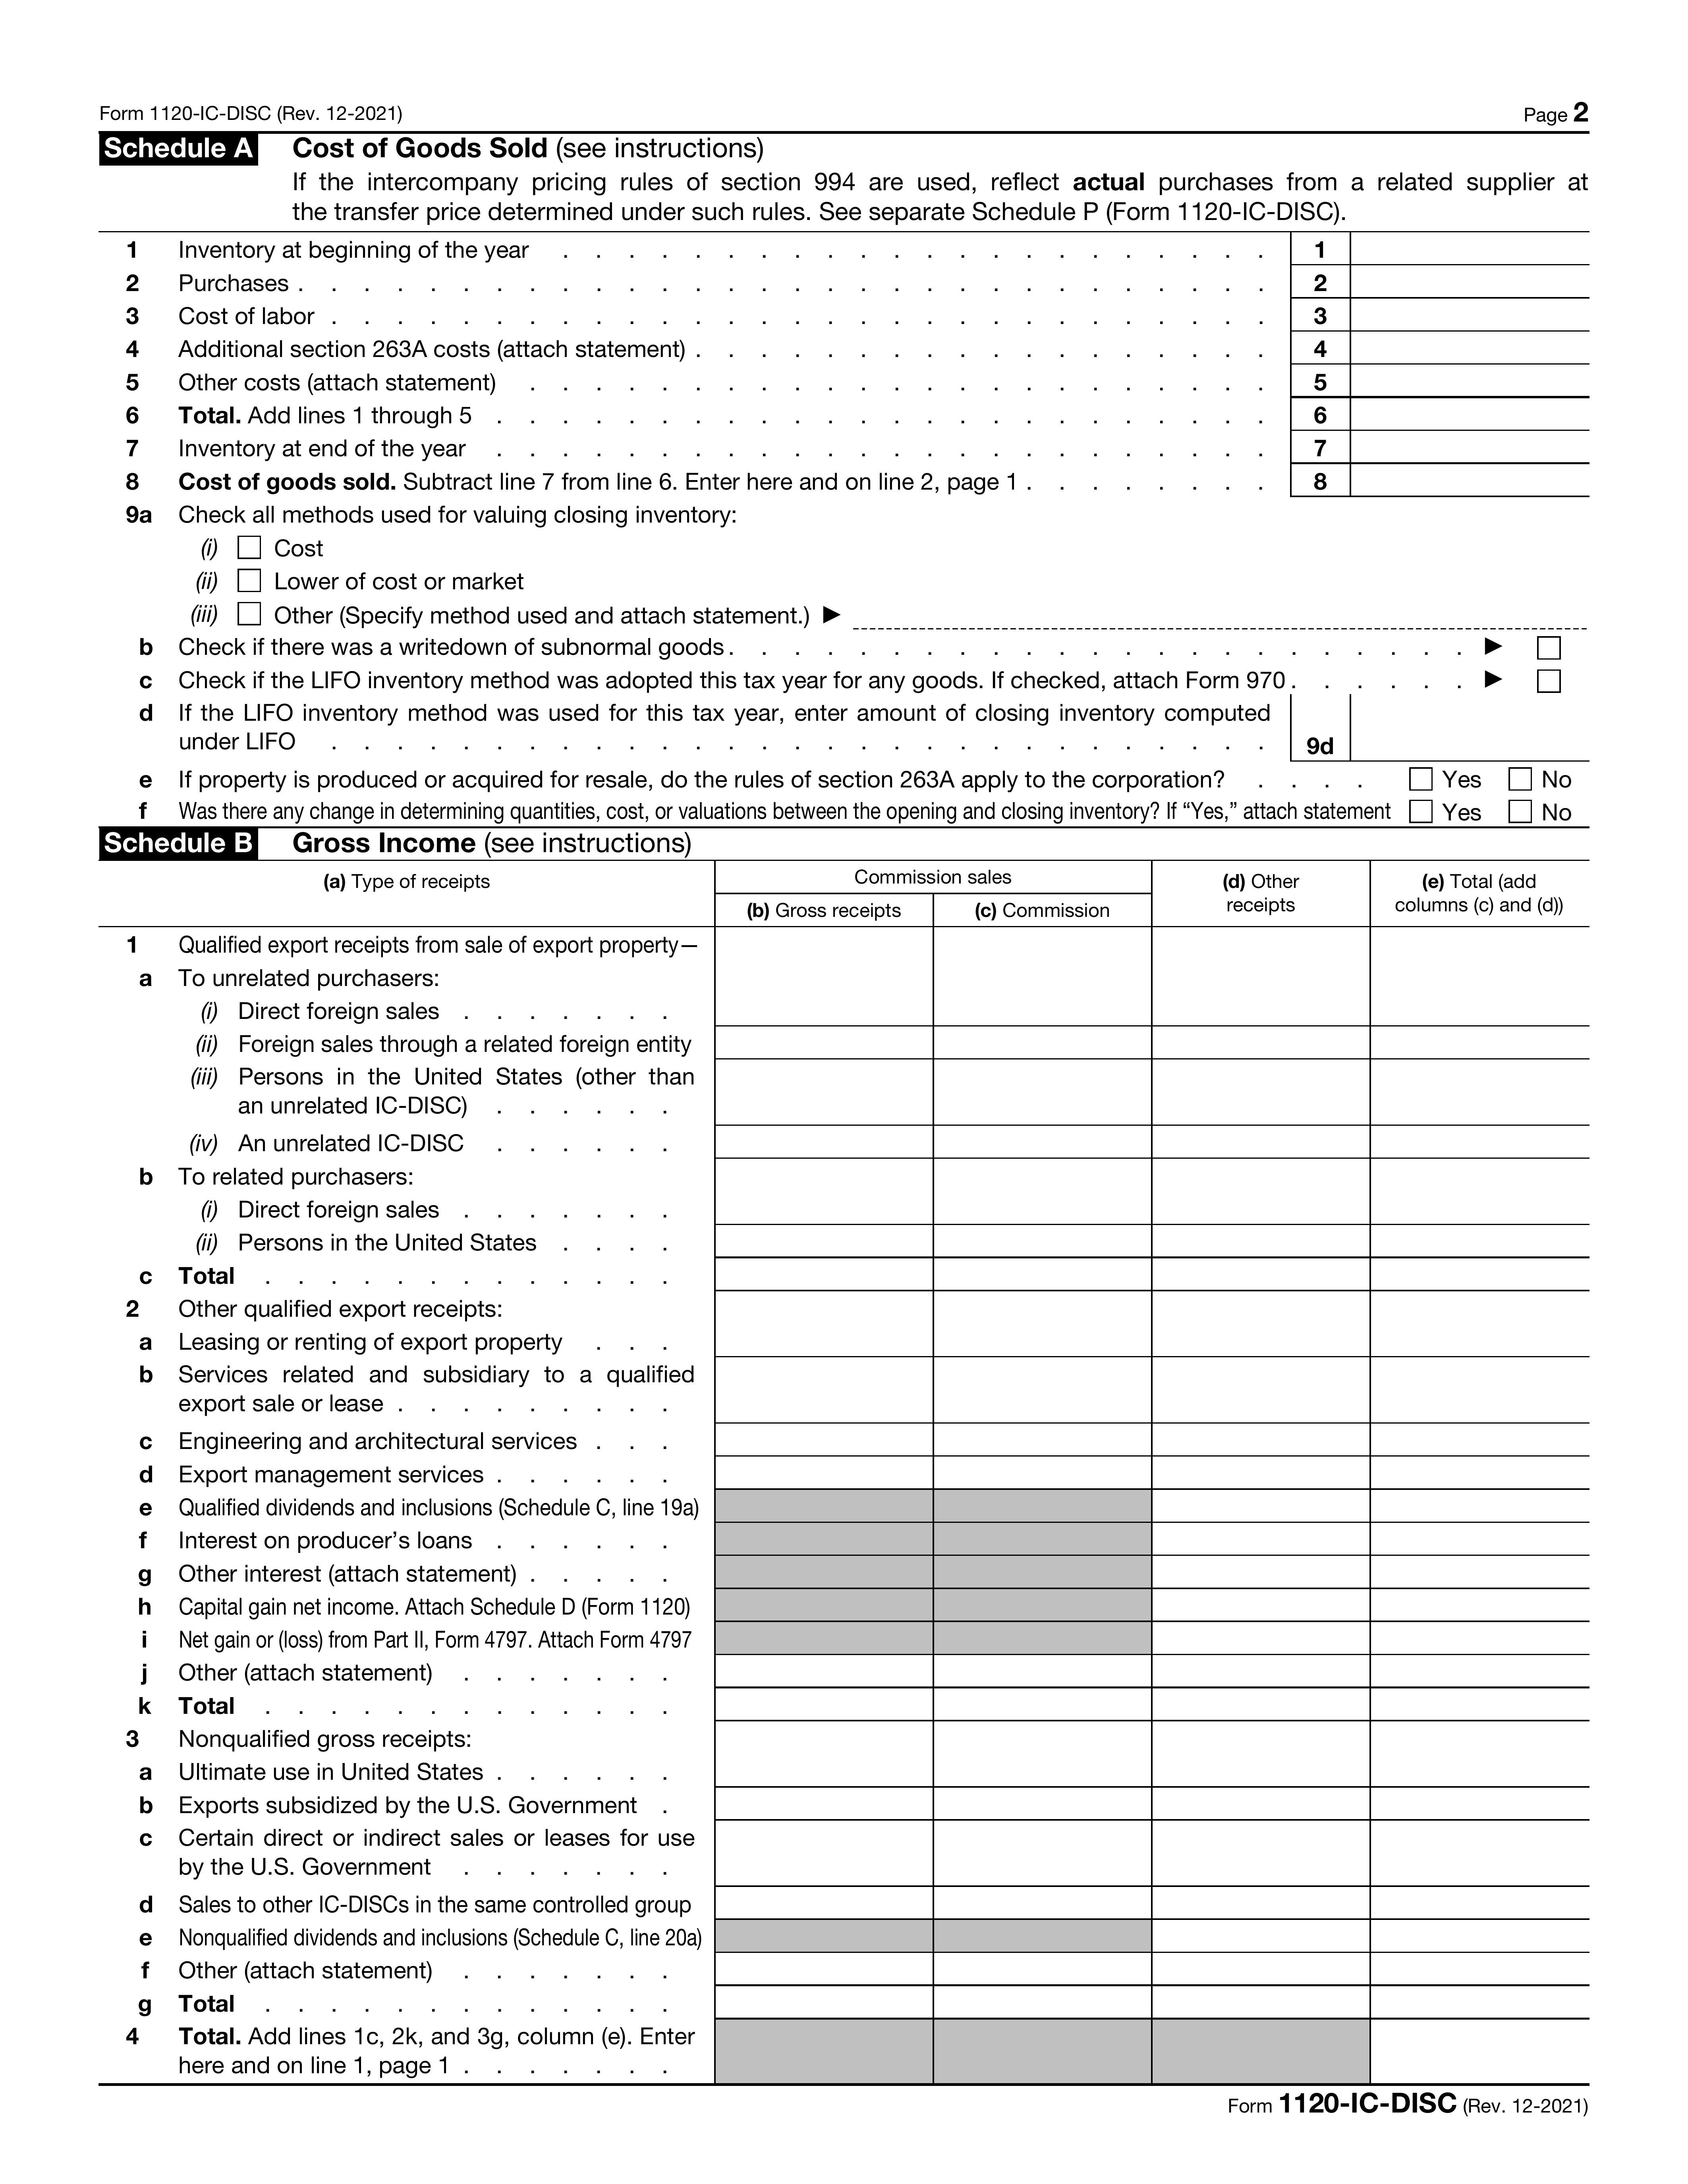table: (105, 858, 1603, 2087), (103, 165, 1612, 830)
